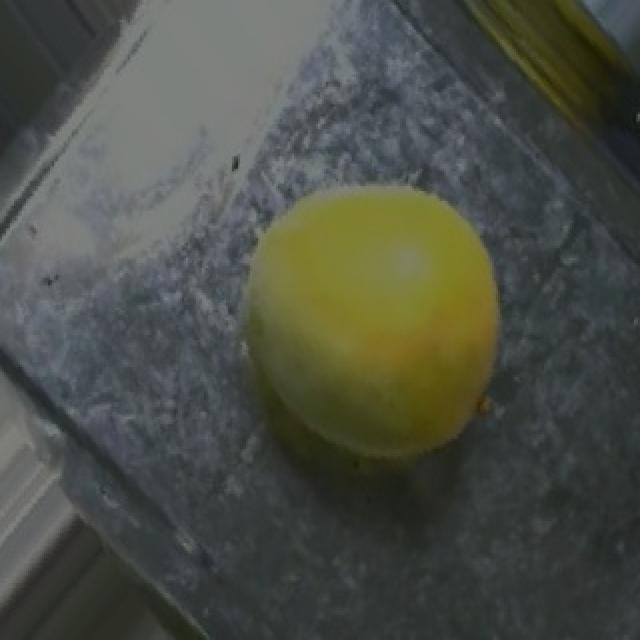fruit: (194, 142, 572, 504), (416, 0, 640, 117)
